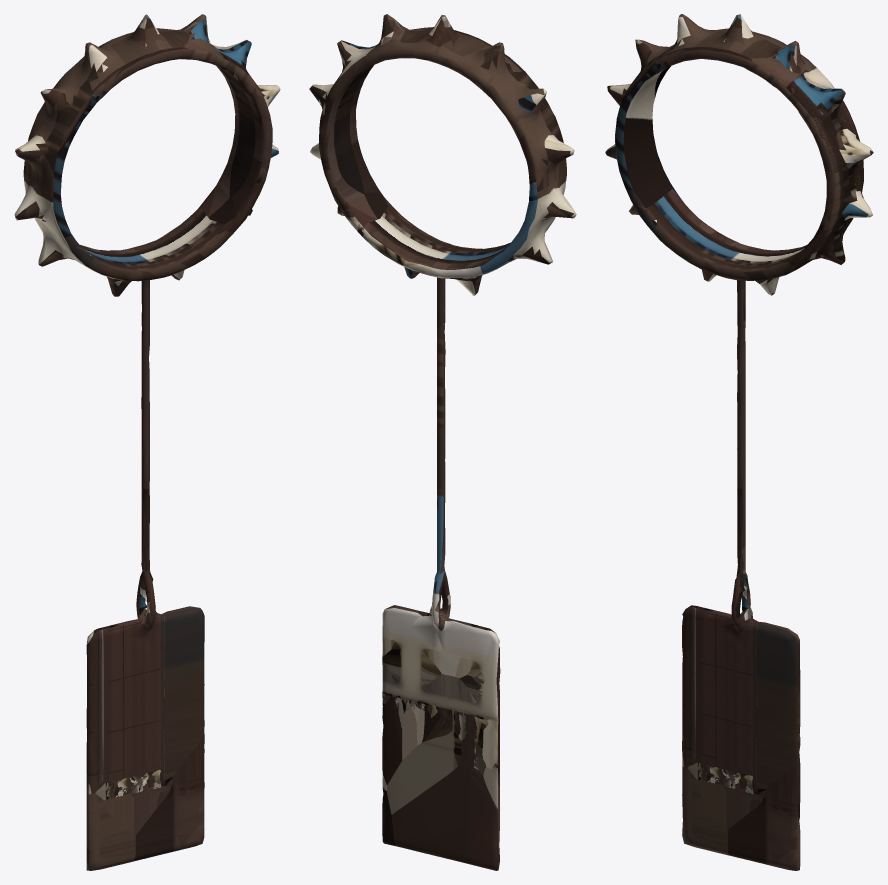
The model's file is tasmalıyakakartı.fbx.
3 views of the same model, side by side, from view 1: azimuth 30°, elevation 25°; view 2: azimuth 150°, elevation 25°; view 3: azimuth 330°, elevation 25° (orthographic).
Visible parts, largest first — view 1: Mesh1.0; view 2: Mesh1.0; view 3: Mesh1.0.
Part boxes in pixels (x1,y1,x2,y2): Mesh1.0: (14, 14, 280, 870); Mesh1.0: (309, 14, 576, 870); Mesh1.0: (605, 14, 873, 870).
Size of the model in its own units: 63.07 by 191 by 12.42.
